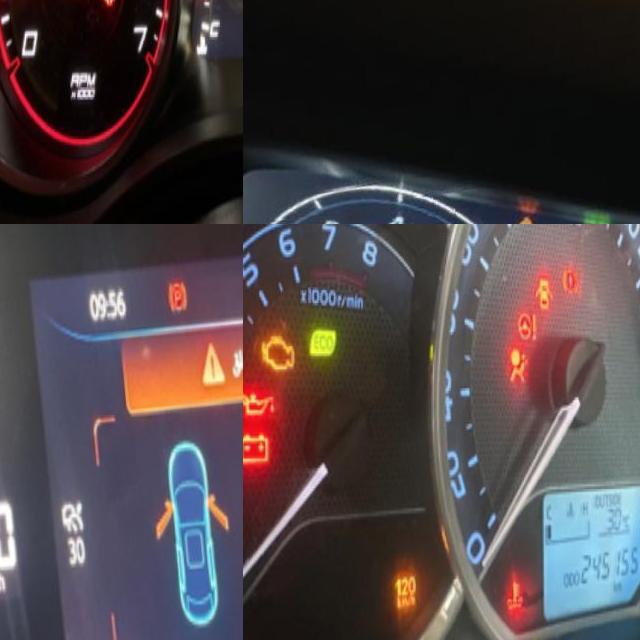Central Warning lamp: (196, 337, 228, 393)
Electronic Power Steering: (514, 306, 542, 346)
High Engine Coolant Temperature: (504, 574, 526, 617)
Seat Belt: (102, 0, 116, 8)
